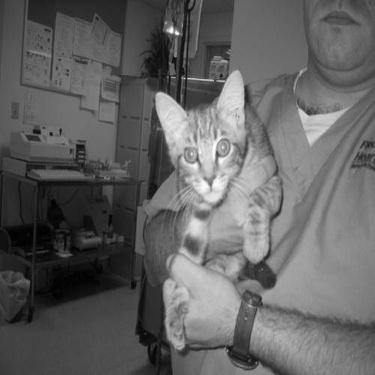cat: (123, 55, 289, 370)
